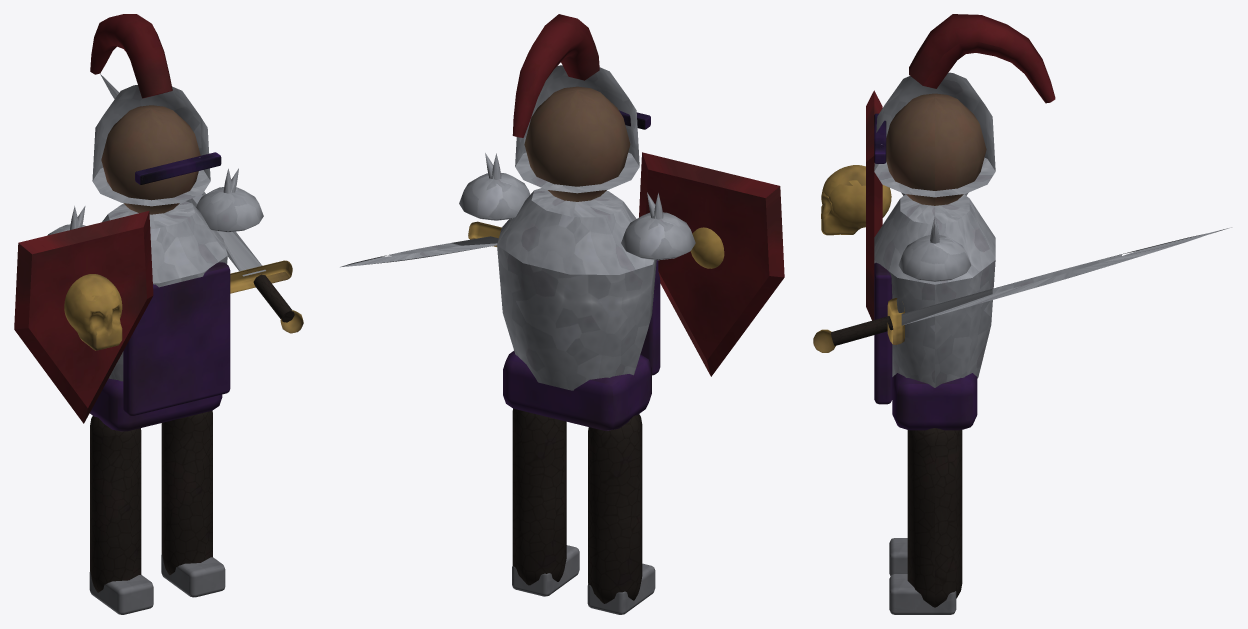
The model's file is knight.glb.
3 renders of one model, left to right at view 1: azimuth 30°, elevation 25°; view 2: azimuth 150°, elevation 25°; view 3: azimuth 270°, elevation 25°, orthographic. The views are drawn at different scales.
Visible parts, largest first — view 1: Turret, Base; view 2: Turret, Base; view 3: Turret, Base.
Boxes of the visible parts, bbox=[...] form: Turret: bbox=[14, 14, 303, 423]; Base: bbox=[89, 378, 225, 614]; Turret: bbox=[340, 14, 784, 390]; Base: bbox=[503, 351, 655, 614]; Turret: bbox=[813, 14, 1231, 404]; Base: bbox=[889, 373, 977, 614].
Bounding box in the file's own units: 0.6171 × 1.14 × 0.7609.
Materials: 8 (8 with a texture image).
